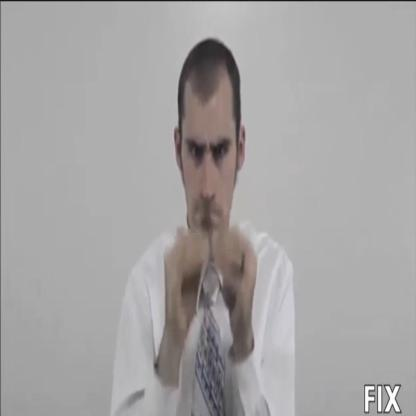Fix: (161, 203, 260, 366)
